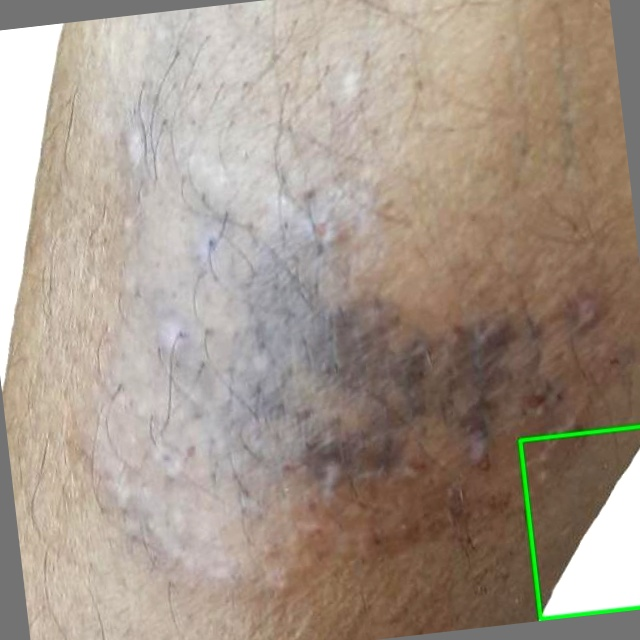Tinea Corporis: (520, 427, 639, 620)
